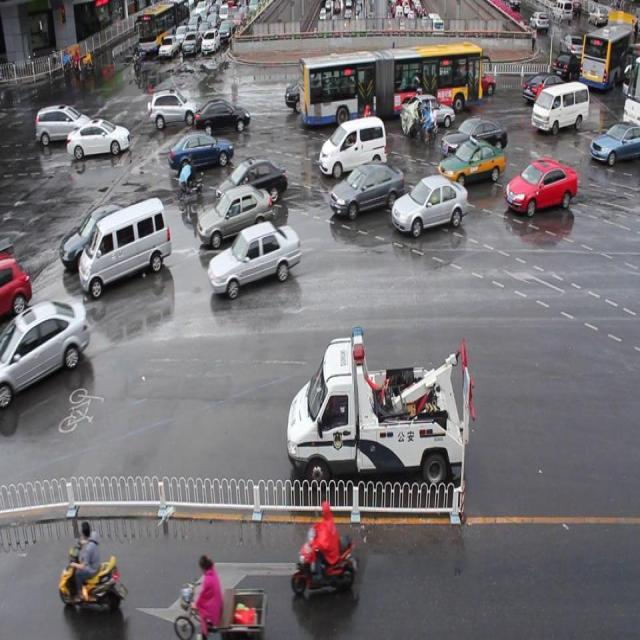bus: (287, 326, 477, 493)
car: (1, 299, 88, 411), (208, 220, 300, 297), (62, 201, 140, 270), (393, 174, 466, 234), (318, 115, 387, 174), (197, 183, 274, 235), (506, 159, 575, 213), (330, 166, 402, 217), (214, 160, 286, 204), (436, 142, 503, 183), (36, 102, 94, 148), (69, 118, 130, 159), (1, 245, 32, 322), (168, 132, 234, 167), (440, 119, 506, 154), (588, 121, 640, 161), (197, 97, 250, 135), (150, 89, 198, 128), (402, 95, 454, 128), (449, 63, 494, 96), (285, 80, 330, 112), (523, 73, 563, 104)
truck: (81, 200, 170, 291), (531, 84, 588, 128)
van: (299, 48, 481, 124)
